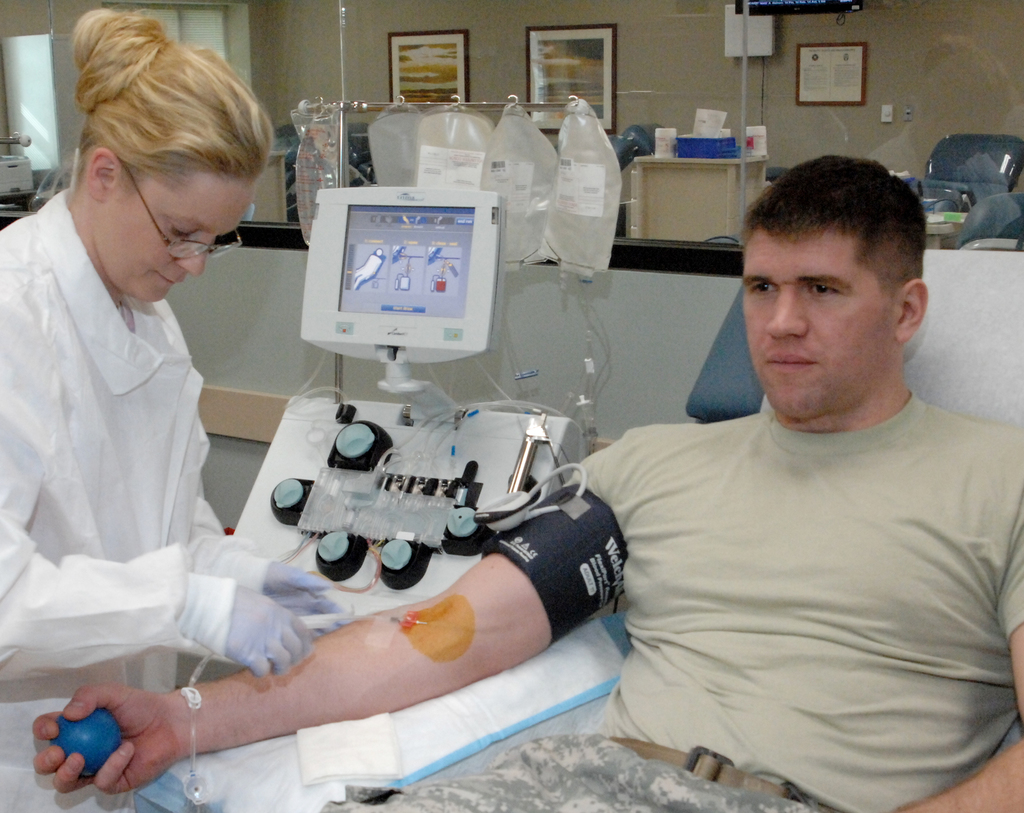Person: (0, 4, 357, 813)
